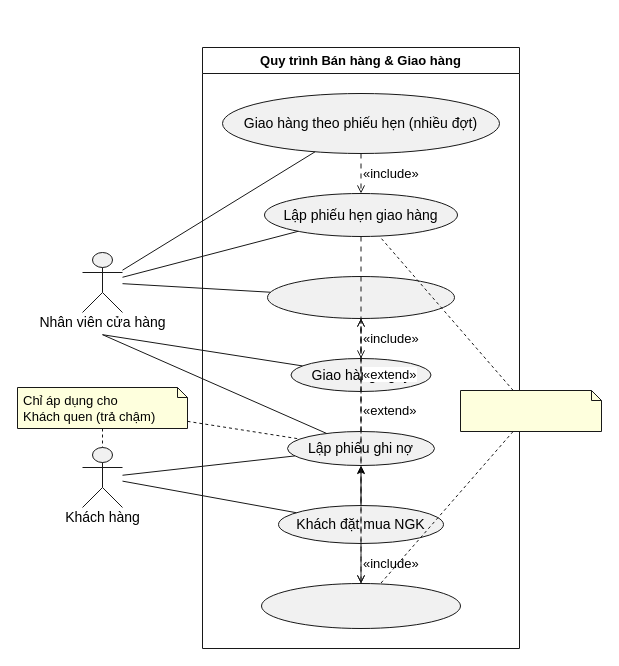
Image size: 619x666. Some labels were removed from this diagram. The box of each missing label's shape, as (x1, y1, x2, y2) in pixels:
Chỉ xảy ra khi kho không đủ số lượng: (460, 390, 602, 432)
Kiểm tra số lượng tồn kho: (260, 582, 460, 628)
Lập hóa đơn thanh toán: (266, 276, 454, 318)
